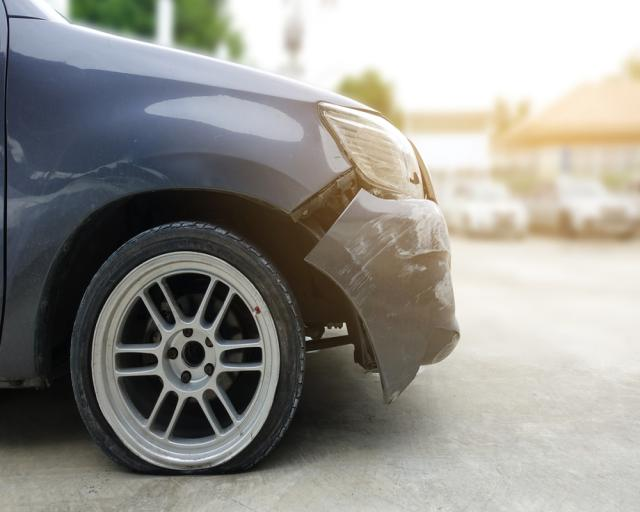lamp broken: (318, 103, 425, 197)
scratch: (333, 199, 455, 322)
tire flat: (72, 219, 305, 476)
